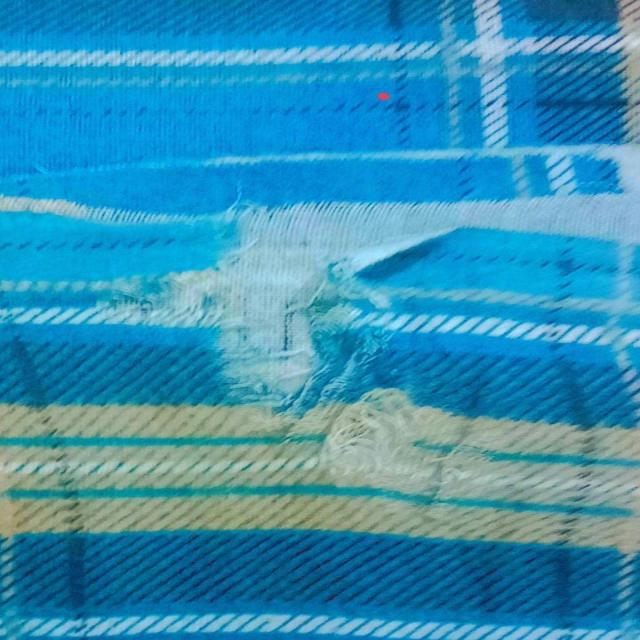cut: (146, 204, 465, 493)
